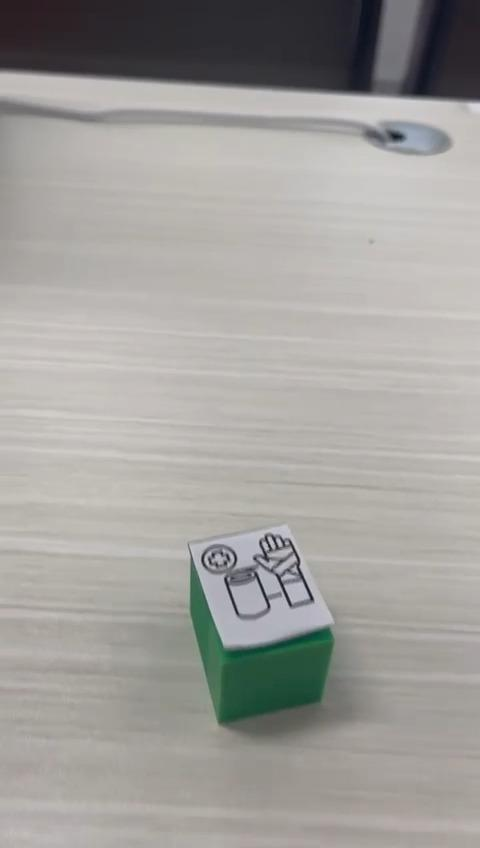Bandages: (189, 522, 333, 728)
